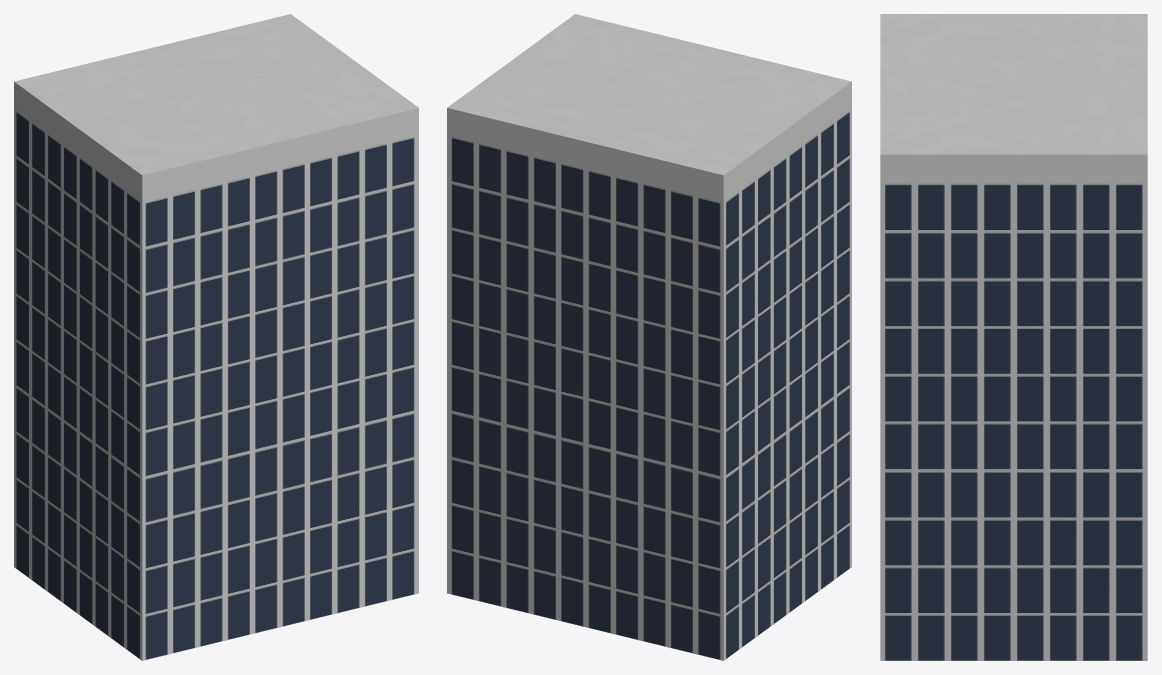
The model's file is Building_S_W1_b_001.fbx.
The picture shows the model from 3 angles, left to right: view 1: azimuth 30°, elevation 25°; view 2: azimuth 150°, elevation 25°; view 3: azimuth 270°, elevation 25°; orthographic projection. The views are drawn at different scales.
Visible parts, largest first — view 1: Building_S_W1_002; view 2: Building_S_W1_002; view 3: Building_S_W1_002.
Part boxes in pixels (x1,y1,x2,y2): Building_S_W1_002: [14, 14, 418, 660]; Building_S_W1_002: [447, 14, 851, 660]; Building_S_W1_002: [880, 14, 1147, 660].
Bounding box in the file's own units: 27.82 × 46.63 × 22.32.
